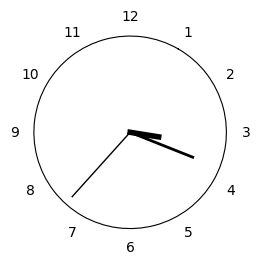12: (123, 10, 138, 22)
circle: (34, 36, 227, 229)
hours: (127, 129, 162, 139)
minutes: (136, 135, 194, 158)
seconds: (71, 135, 128, 198)
